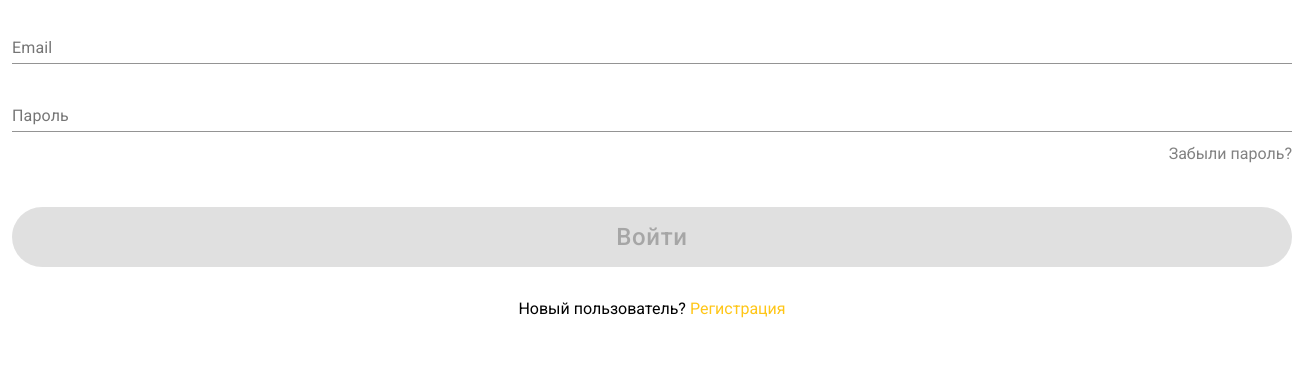
it: Форма логина › При неуспешном сабмите формы появляется сообщение об ошибке
This screenshot has width=1304, height=376.
Type "user@mail.ru" into the field with test id "login-form-email".
click(652, 48); type("user@mail.ru")  # box [12, 32, 1292, 64]
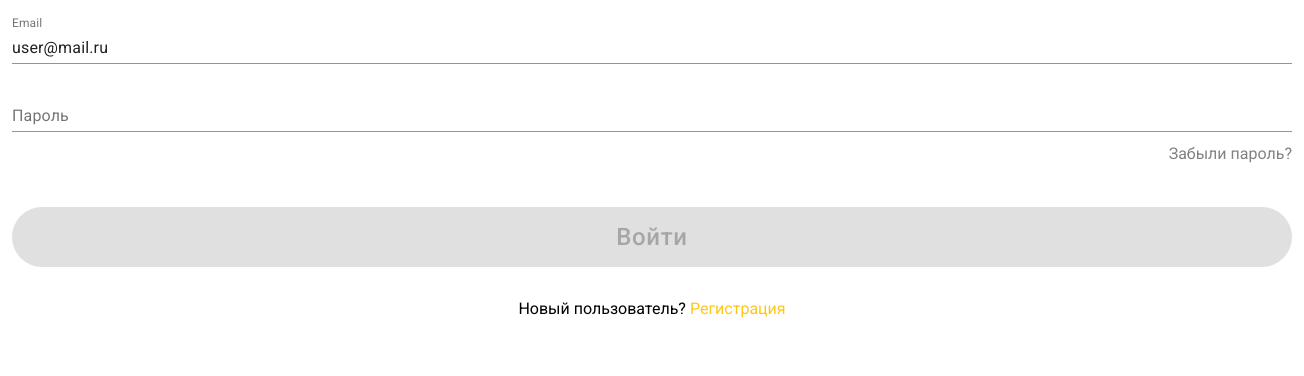
Type "test" into the password field with test id "login-form-password".
click(652, 116); type("test")  # box [12, 100, 1292, 132]
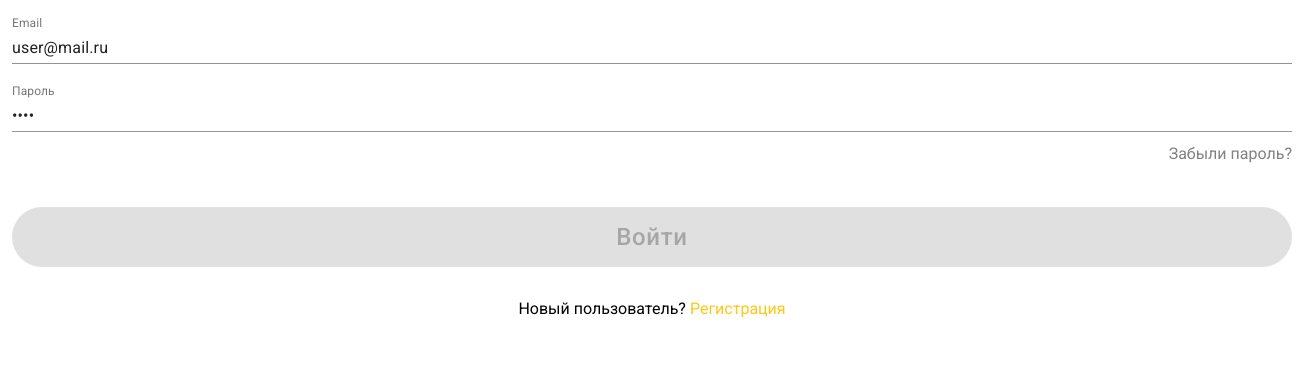
Submit the form with test id "login-form"
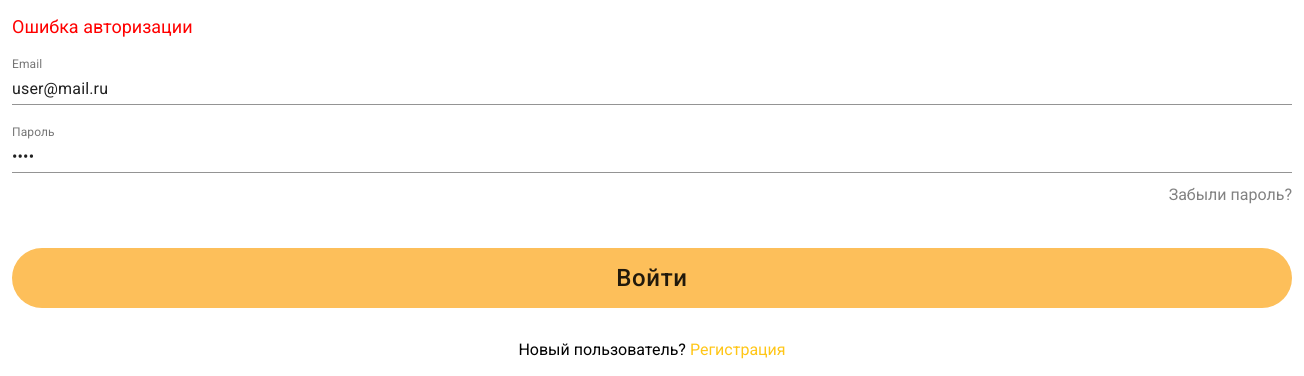
Check: the text "Ошибка авторизации" is shown, box [12, 16, 192, 37]
